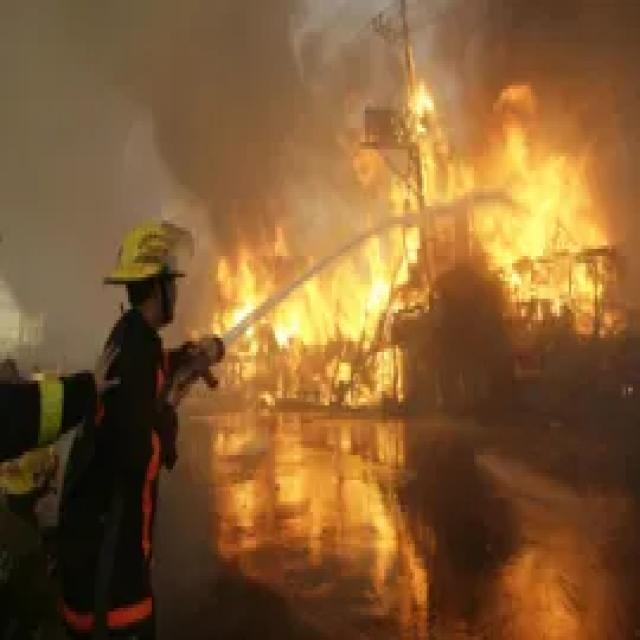Fire: (280, 293, 428, 381), (499, 164, 588, 258), (214, 260, 269, 306)
Smoke: (0, 0, 640, 207)
